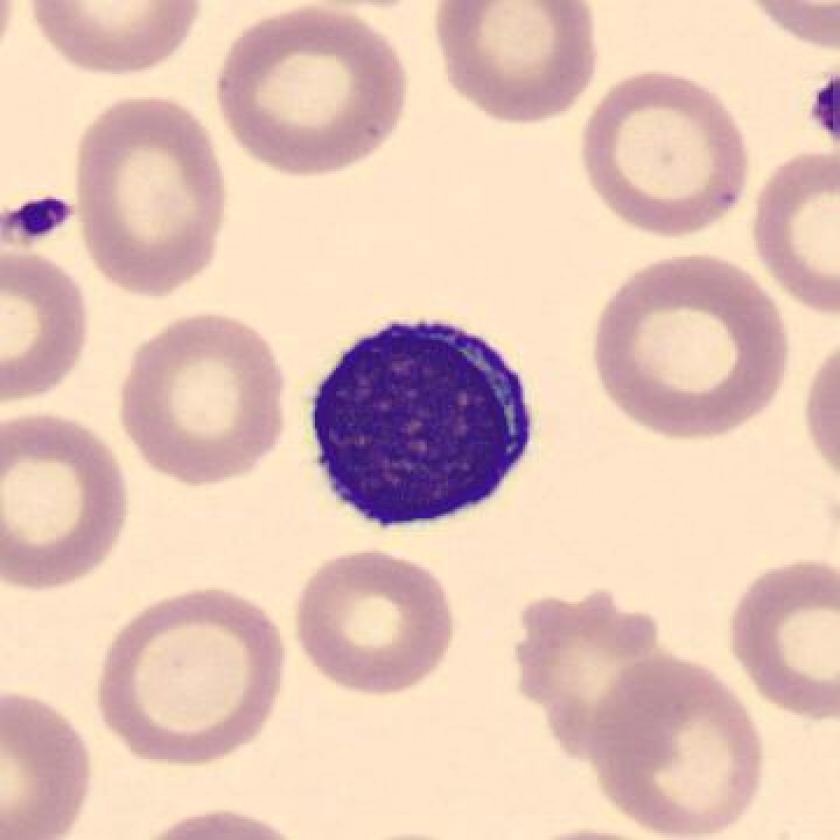lymphocyte: (293, 309, 552, 542)
